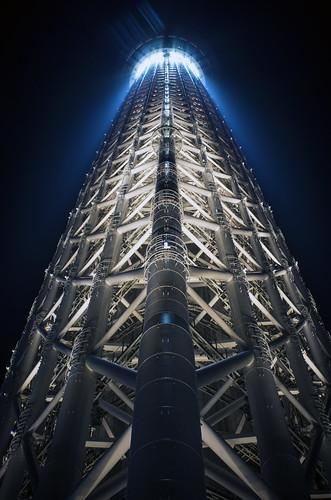building: (5, 45, 331, 500)
